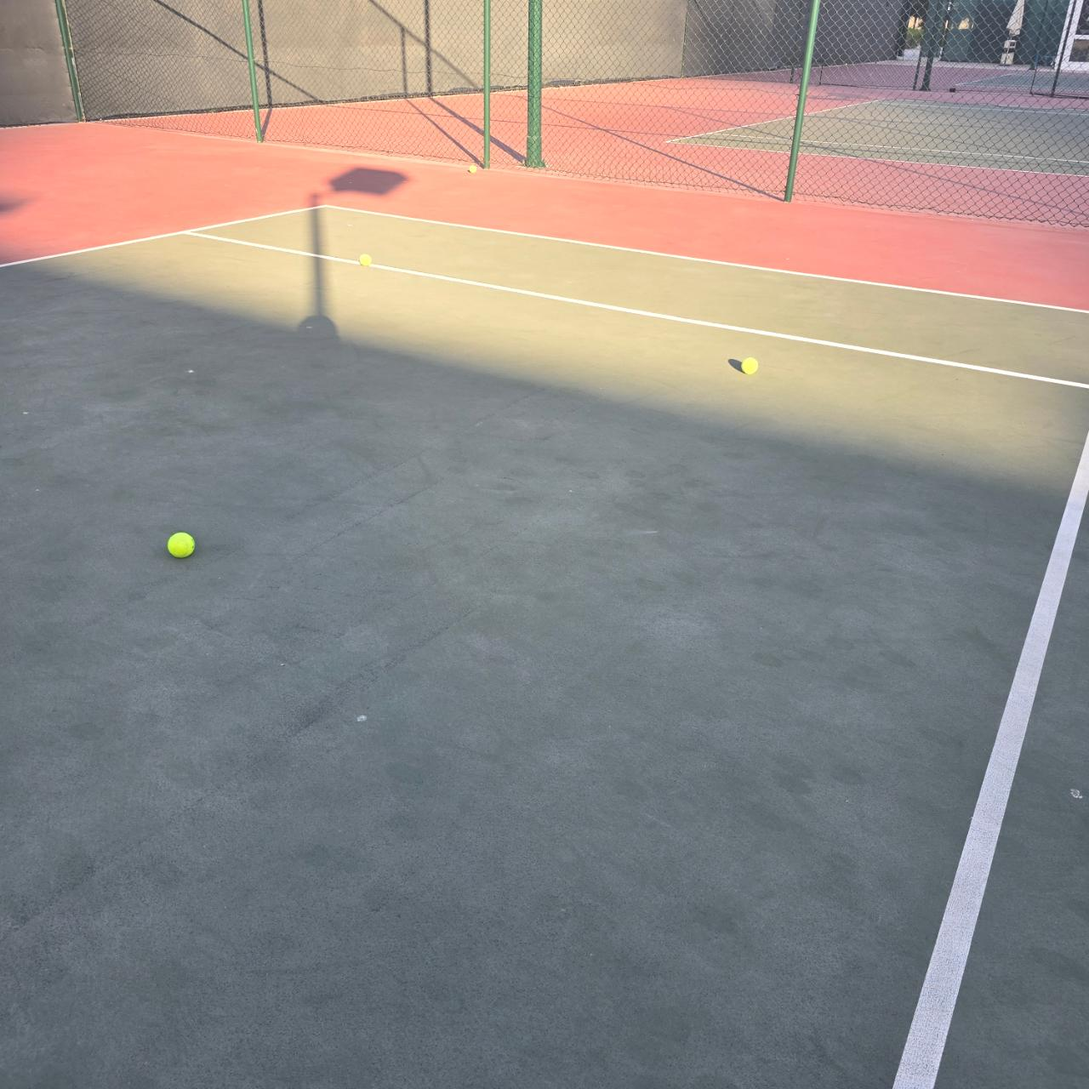tennis-ball: (167, 528, 197, 558), (742, 355, 760, 375), (360, 251, 373, 266), (469, 164, 477, 173)
